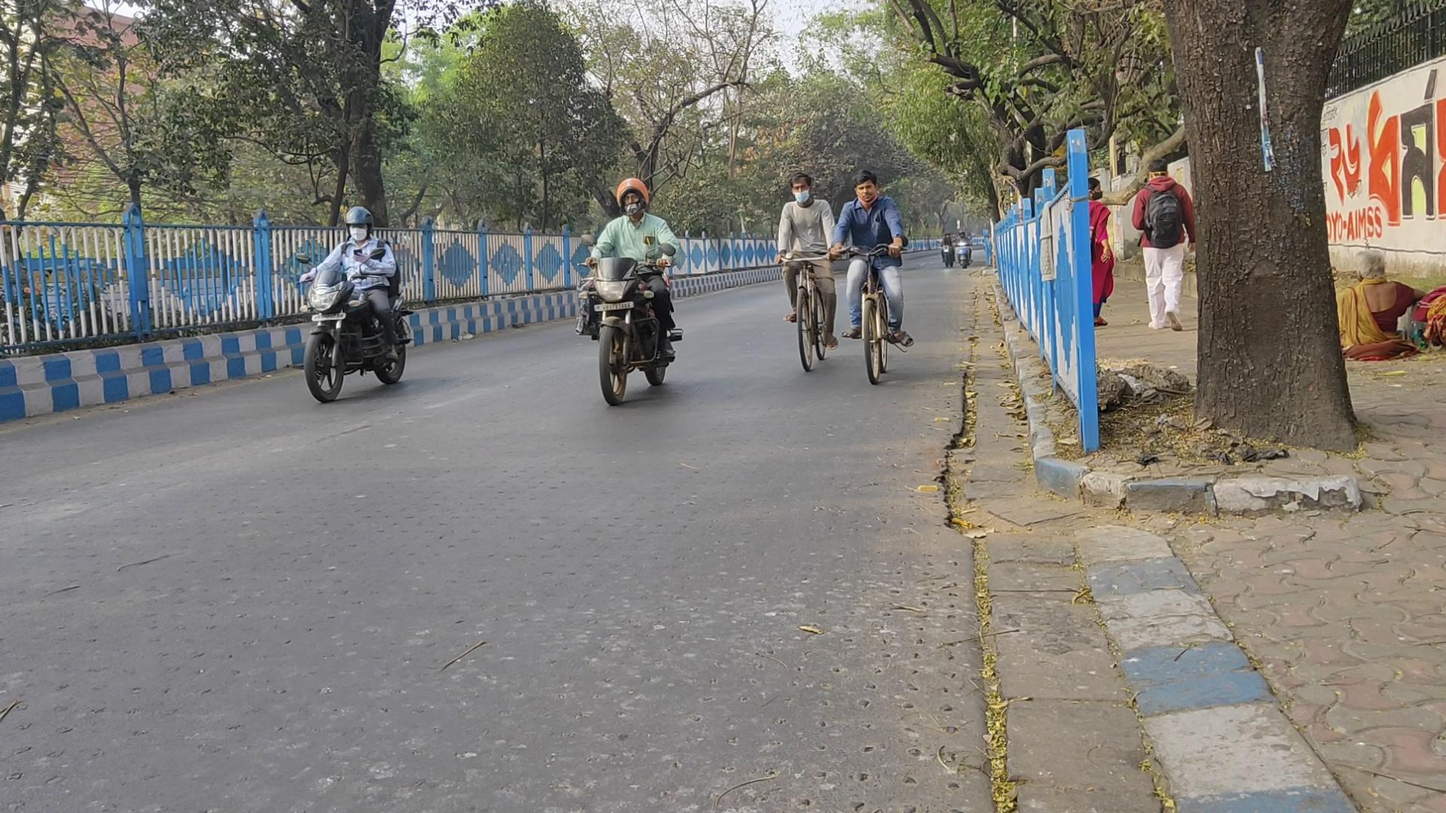bike: (578, 176, 683, 405), (296, 208, 412, 403), (831, 172, 914, 385), (774, 174, 839, 373), (953, 230, 974, 269), (938, 232, 956, 268)
